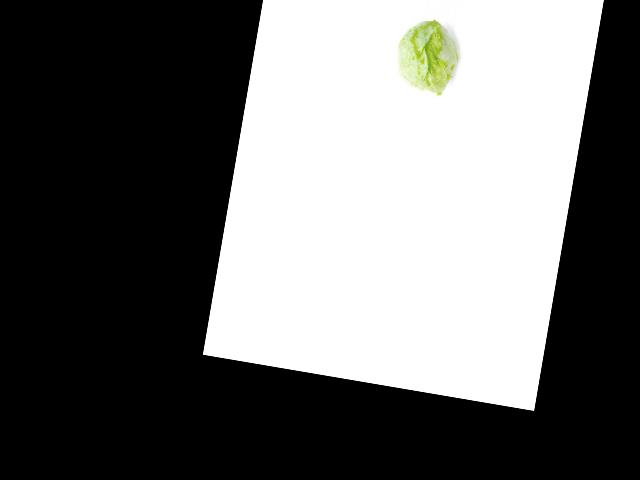lettuce: (386, 14, 467, 97)
